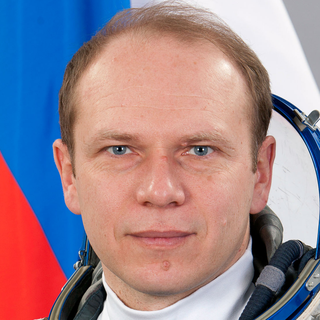eye: (176, 139, 224, 163), (96, 139, 143, 163)
